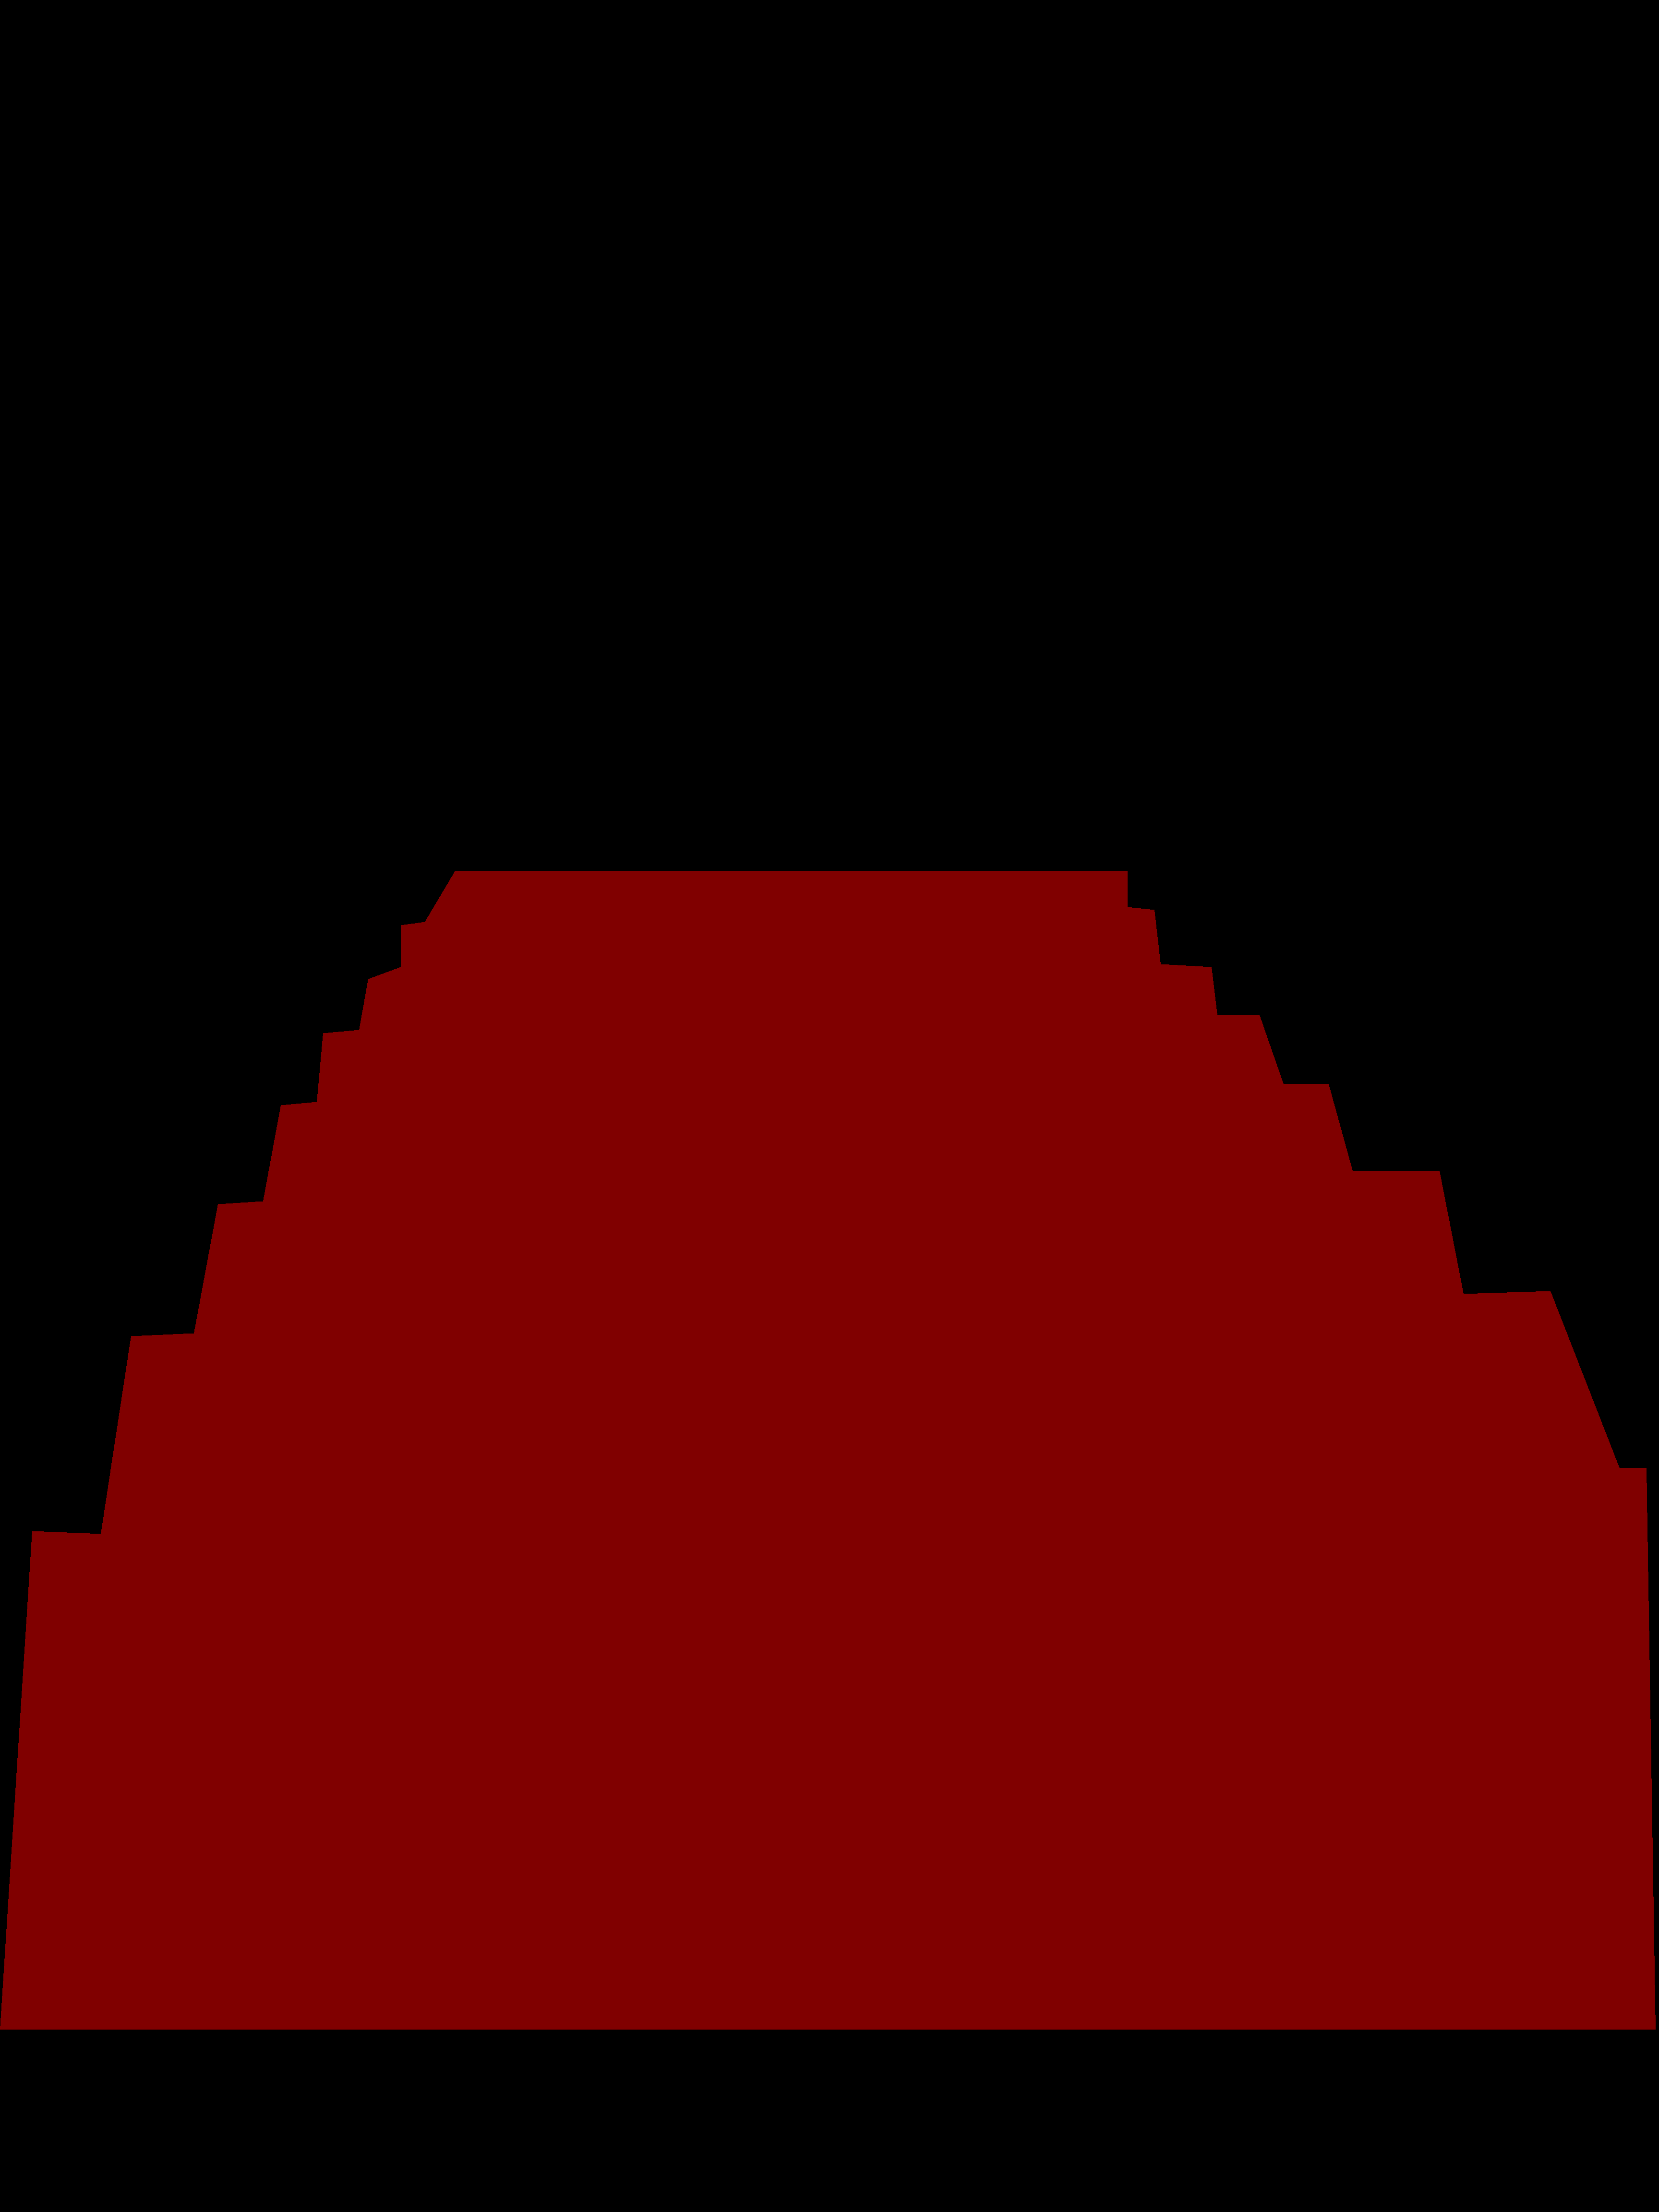stair: (0, 871, 1656, 2029)
